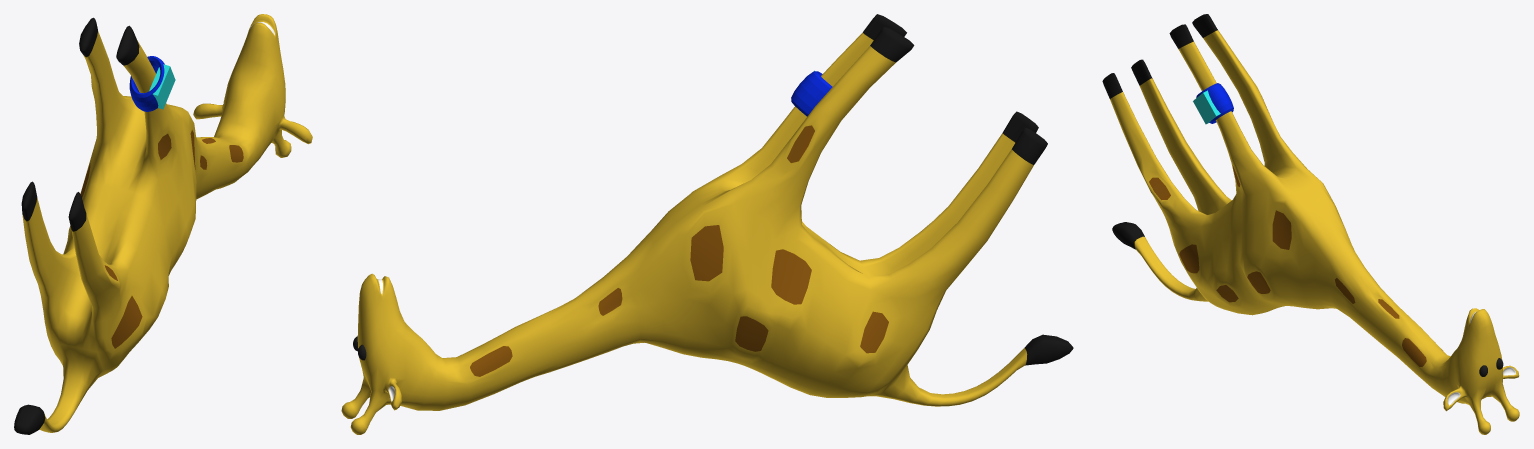
The model's file is giraffeOmgedraaid3.glb.
The picture shows the model from 3 angles, left to right: view 1: azimuth 30°, elevation 25°; view 2: azimuth 150°, elevation 25°; view 3: azimuth 270°, elevation 25°; orthographic projection. The views are drawn at different scales.
Parts seen in each view (by area): view 1: Plane, Torus, Cube; view 2: Plane, Torus; view 3: Plane, Torus, Cube.
Boxes of the visible parts, left/top/right/bottom form: Plane: left=14, top=14, right=312, bottom=434; Torus: left=129, top=56, right=164, bottom=111; Cube: left=149, top=64, right=175, bottom=109; Plane: left=341, top=14, right=1073, bottom=434; Torus: left=791, top=71, right=832, bottom=116; Plane: left=1102, top=14, right=1519, bottom=434; Torus: left=1196, top=83, right=1233, bottom=123; Cube: left=1193, top=90, right=1220, bottom=124.
Size of the model in its own units: 2.08 by 1.5 by 1.89.
